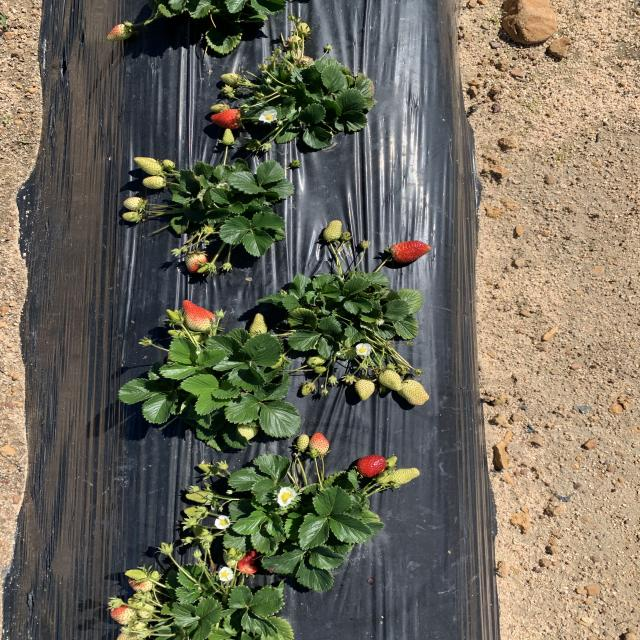unripe: (390, 241, 431, 266), (357, 453, 387, 478), (235, 550, 264, 575), (211, 108, 242, 130)
